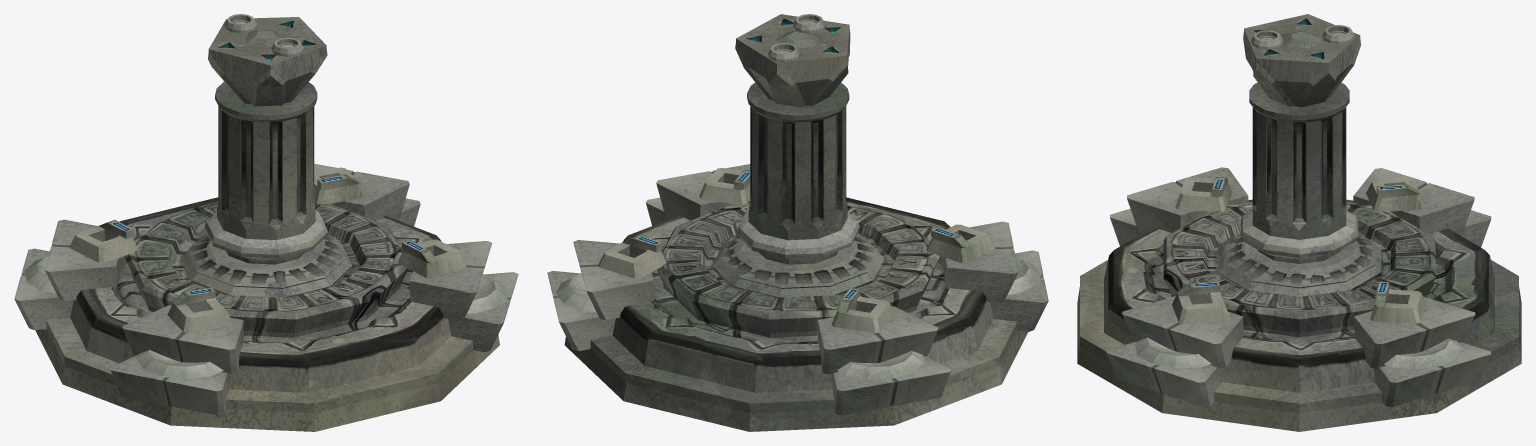
Rendered from holder.FBX.
3 views of the same model, side by side, from view 1: azimuth 30°, elevation 25°; view 2: azimuth 150°, elevation 25°; view 3: azimuth 270°, elevation 25° (orthographic).
Visible parts, largest first — view 1: Object001, Object005, Object003, Object002, Object004, Object006; view 2: Object001, Object005, Object003, Object002, Object004, Object006; view 3: Object001, Object003, Object005, Object002, Object004, Object006.
Boxes of the visible parts, x1,y1,x2,y2 form: Object001: (35,197,499,431); Object005: (204,17,327,264); Object003: (14,163,518,415); Object002: (69,167,466,332); Object004: (24,256,507,379); Object006: (224,14,303,56); Object001: (564,197,1027,431); Object005: (735,14,859,264); Object003: (547,164,1048,415); Object002: (598,168,995,333); Object004: (555,257,1040,379); Object006: (768,14,825,61); Object001: (1077,199,1521,431); Object003: (1106,167,1491,407); Object005: (1241,14,1360,263); Object002: (1172,177,1426,323); Object004: (1135,337,1461,369); Object006: (1251,25,1354,49).
Size of the model in its own units: 51.55 by 36.52 by 49.03.
Materials: 6 (6 with a texture image).
